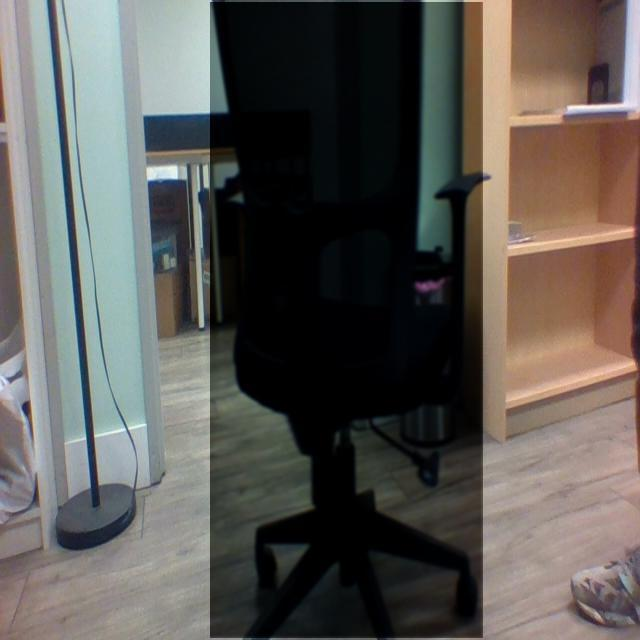chair: (221, 3, 490, 640)
